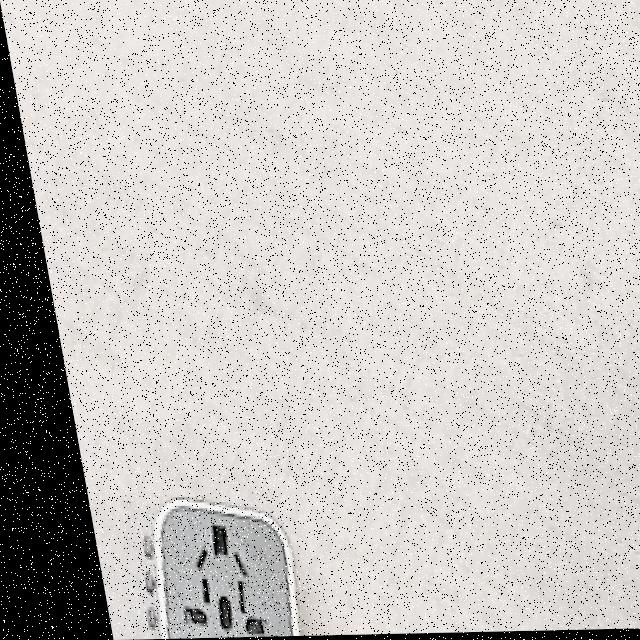adapter: (105, 493, 283, 639)
